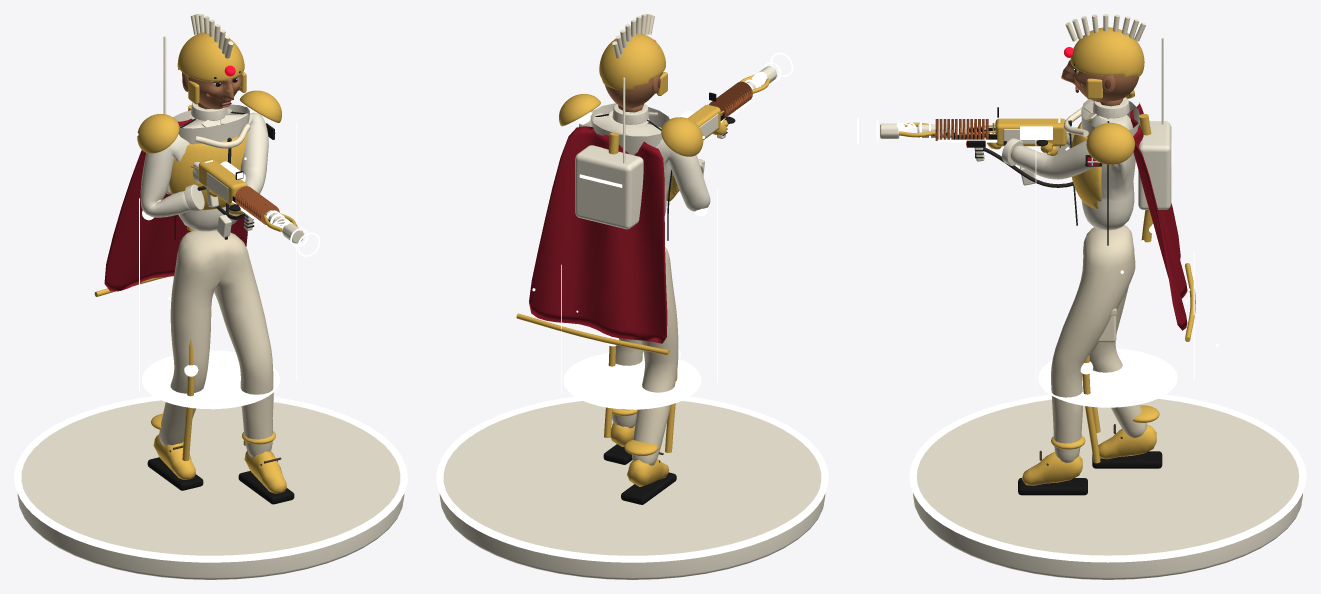
The model's file is lyn_guld.glb.
The picture shows the model from 3 angles, left to right: view 1: azimuth 30°, elevation 25°; view 2: azimuth 150°, elevation 25°; view 3: azimuth 270°, elevation 25°; orthographic projection.
Visible parts, largest first — view 1: fod_net, menneske_net, op2_net, hoved_net, op4.001_net, vaaben_net, op4_net, op3_net, op2.001_net; view 2: fod_net, op2_net, menneske_net, op4.001_net, op3.001_net, hoved_net, vaaben_net, op4_net; view 3: fod_net, menneske_net, op2_net, hoved_net, op4.001_net, vaaben_net, op3.001_net, op4_net, op3_net, op1_net.
Boxes of the visible parts, x1=… form: fod_net: x1=14, y1=396, x2=407, y2=579; menneske_net: x1=140, y1=102, x2=294, y2=504; op2_net: x1=94, y1=90, x2=281, y2=296; hoved_net: x1=177, y1=14, x2=246, y2=109; op4.001_net: x1=135, y1=122, x2=296, y2=409; vaaben_net: x1=192, y1=159, x2=297, y2=232; op4_net: x1=142, y1=104, x2=262, y2=460; op3_net: x1=205, y1=160, x2=304, y2=243; op2.001_net: x1=190, y1=166, x2=254, y2=237; fod_net: x1=436, y1=396, x2=828, y2=579; op2_net: x1=516, y1=94, x2=703, y2=355; menneske_net: x1=579, y1=103, x2=735, y2=504; op4.001_net: x1=532, y1=136, x2=717, y2=409; op3.001_net: x1=575, y1=77, x2=643, y2=229; hoved_net: x1=599, y1=14, x2=667, y2=108; vaaben_net: x1=678, y1=71, x2=770, y2=139; op4_net: x1=578, y1=112, x2=707, y2=452; fod_net: x1=909, y1=394, x2=1306, y2=579; menneske_net: x1=981, y1=97, x2=1162, y2=495; op2_net: x1=1063, y1=89, x2=1195, y2=341; hoved_net: x1=1061, y1=14, x2=1146, y2=102; op4.001_net: x1=1035, y1=129, x2=1218, y2=407; vaaben_net: x1=896, y1=118, x2=1077, y2=155; op3.001_net: x1=1138, y1=38, x2=1172, y2=209; op4_net: x1=1080, y1=114, x2=1155, y2=463; op3_net: x1=880, y1=118, x2=1060, y2=143; op1_net: x1=954, y1=127, x2=1073, y2=187.
Size of the model in its own units: 1.94 by 2.6 by 2.19.
